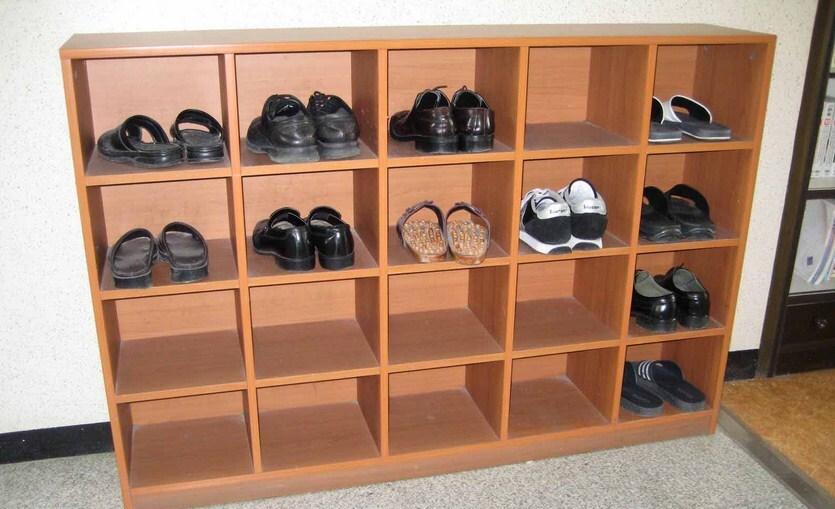sandal: (89, 99, 232, 173), (95, 206, 220, 288), (625, 74, 745, 155), (391, 190, 500, 273), (620, 350, 712, 420)
sepatu: (239, 68, 376, 168), (385, 74, 511, 160), (507, 174, 619, 268), (245, 202, 365, 277), (615, 259, 718, 328)
